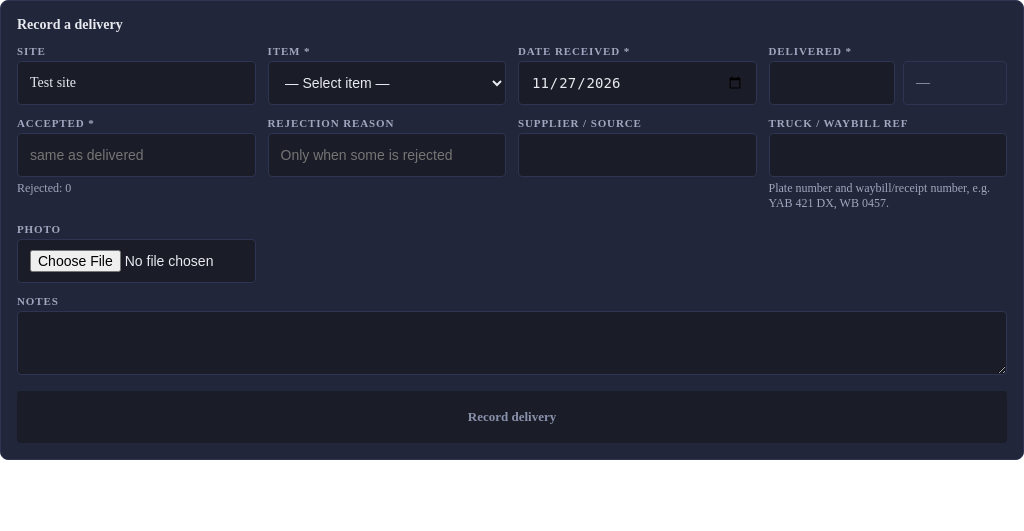
Test: only shows raw material requests for cement and leaves Not linked out of the payload
Select "APCL cement (bags)" in the dropdown labelled "Item *" at [387, 83], box [268,61,506,105]
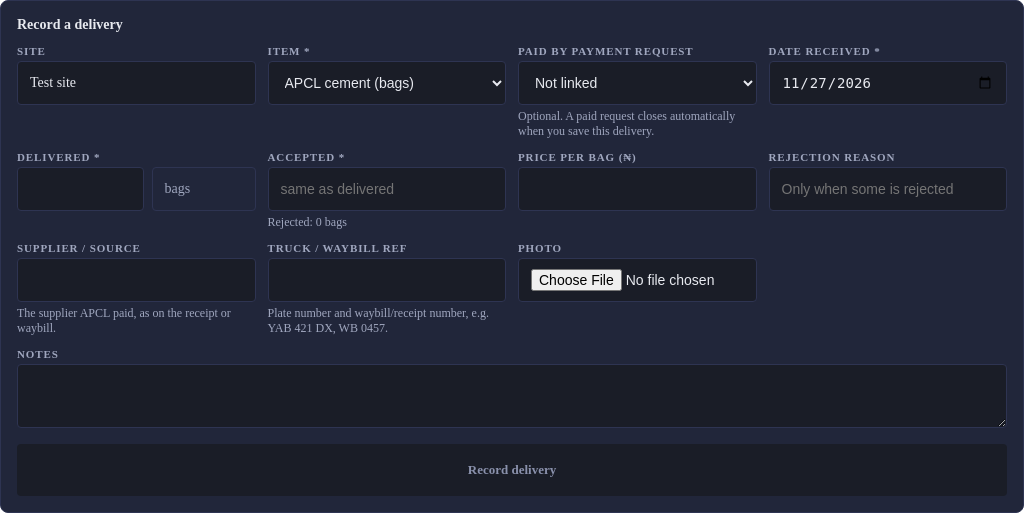
Select "PR-RAW — ₦2,000 — Cement supplier (Approved)" in the dropdown labelled "Paid by payment request" at [637, 83], box [518,61,756,105]
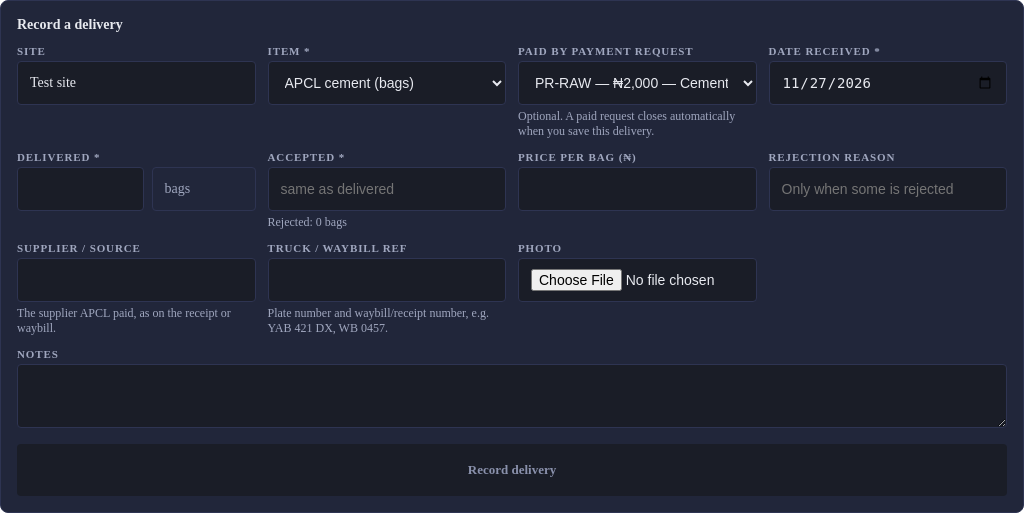
Select "Not linked" in the dropdown labelled "Paid by payment request" at [637, 83], box [518,61,756,105]
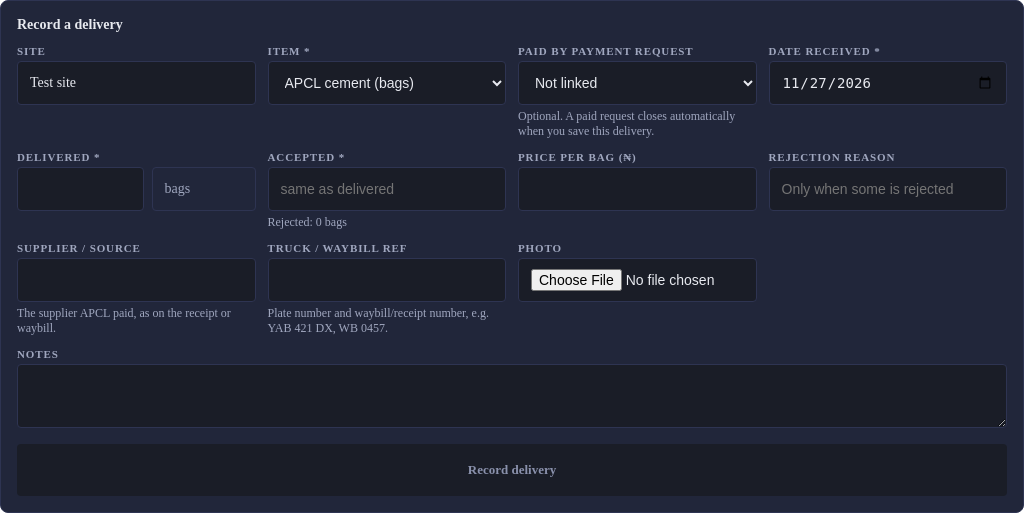
Type "10" into the number field labelled "Delivered *".
click(80, 189); type("10")  # box [17,167,144,211]
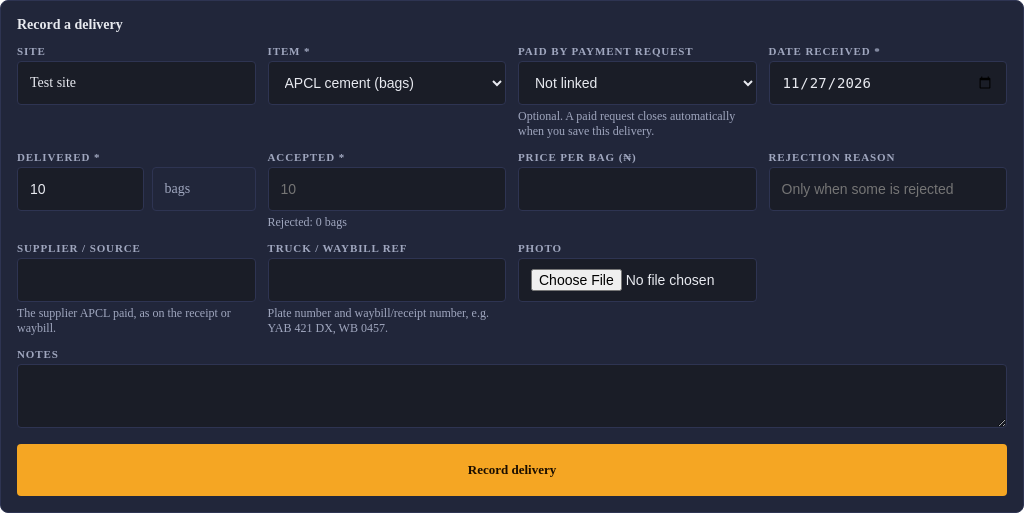
Click the button "Record delivery".
click(512, 470)  # box [17,444,1007,496]
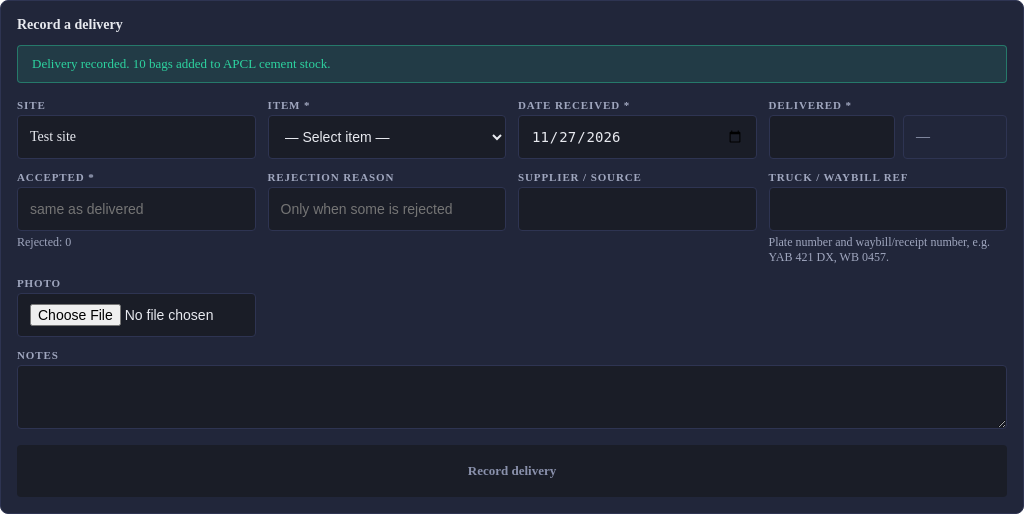
Now the text "Delivery recorded. 10 bags added to APCL cement stock." is shown, box [17,45,1007,83]
